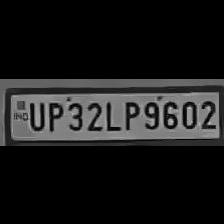0: (179, 96, 197, 128)
2: (83, 97, 103, 130), (198, 96, 216, 130)
3: (63, 97, 83, 130)
6: (160, 97, 178, 129)
9: (140, 96, 160, 130)
L: (103, 97, 120, 130)
P: (44, 98, 64, 132), (119, 97, 138, 130)
U: (25, 97, 45, 130)
